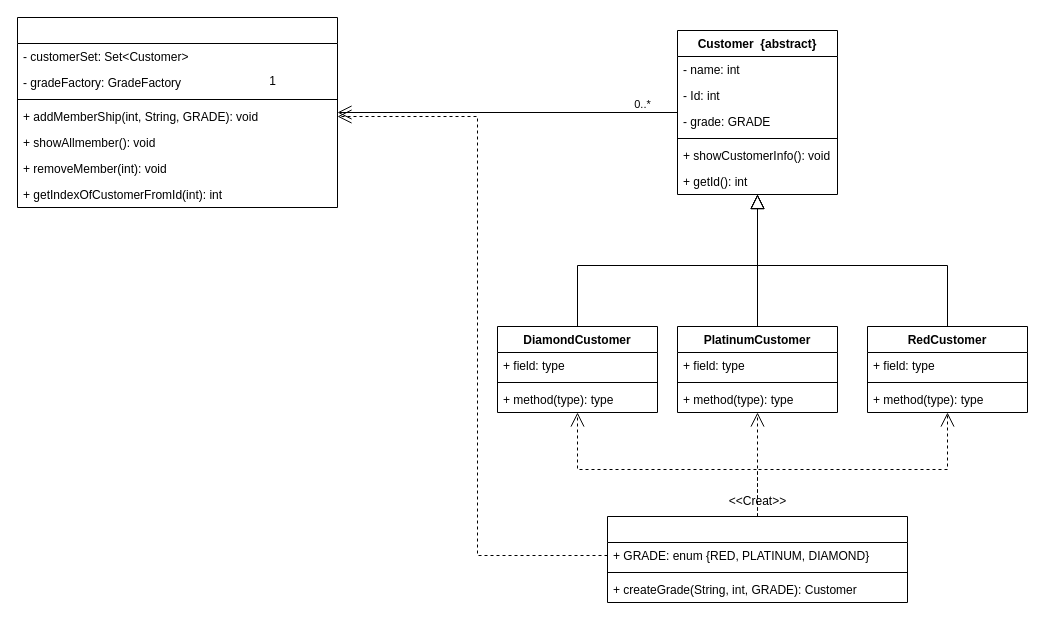
Some shapes in this 1045 by 623 pixel diagram are drawn without their labels. The box of each missing label's shape, as (x1, y1, x2, y2) in pixels:
gradeFactory: (606, 516, 908, 602)
MemberShipMangementSet: (16, 16, 338, 208)
